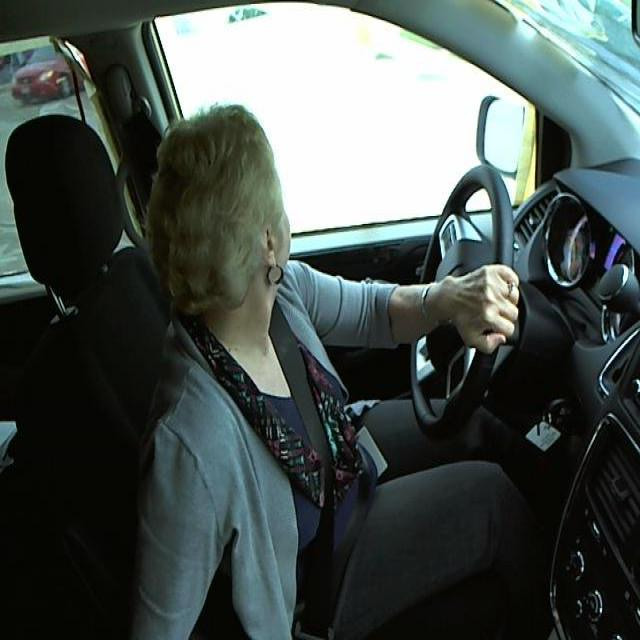seatbelt: (268, 336, 363, 589)
